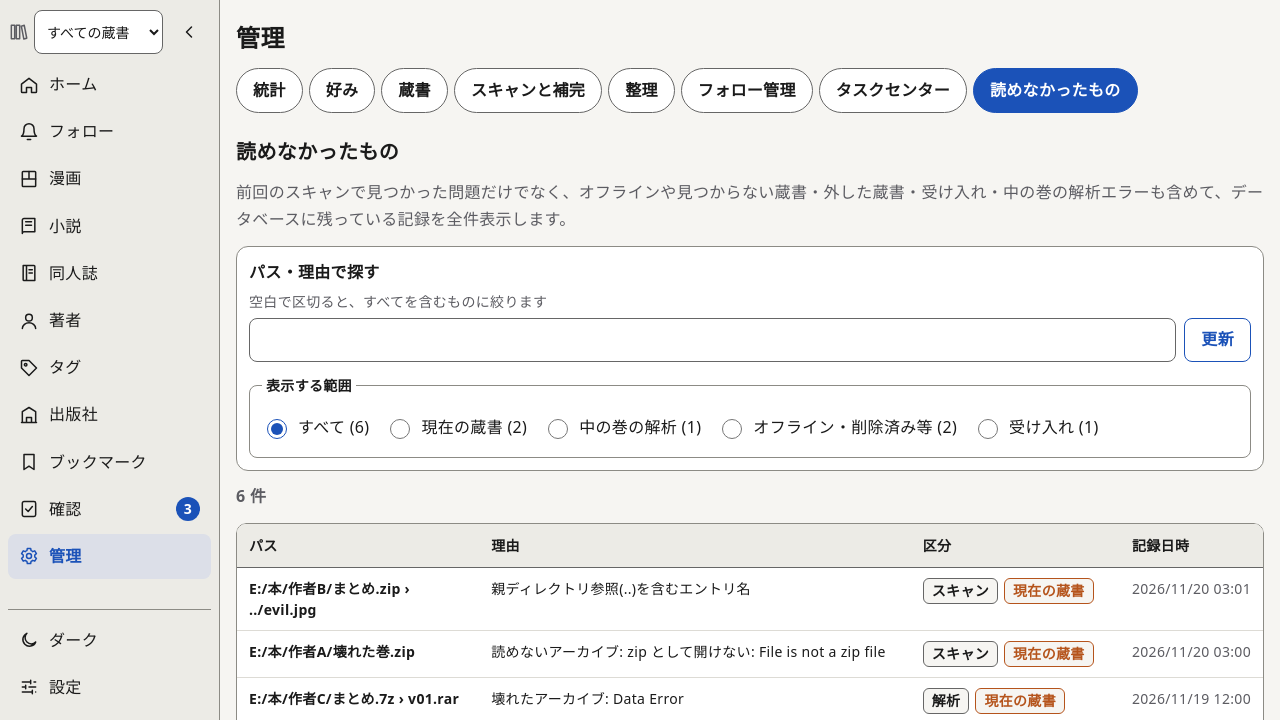
Scenario: 管理の読めなかったものタブ › キーワード検索とクリアボタンが動く
Type "外付け 7-Zip" into the search field labelled "パス・理由で探す" at coordinates (713, 340), box [249, 318, 1176, 362]
Wait 350 ms
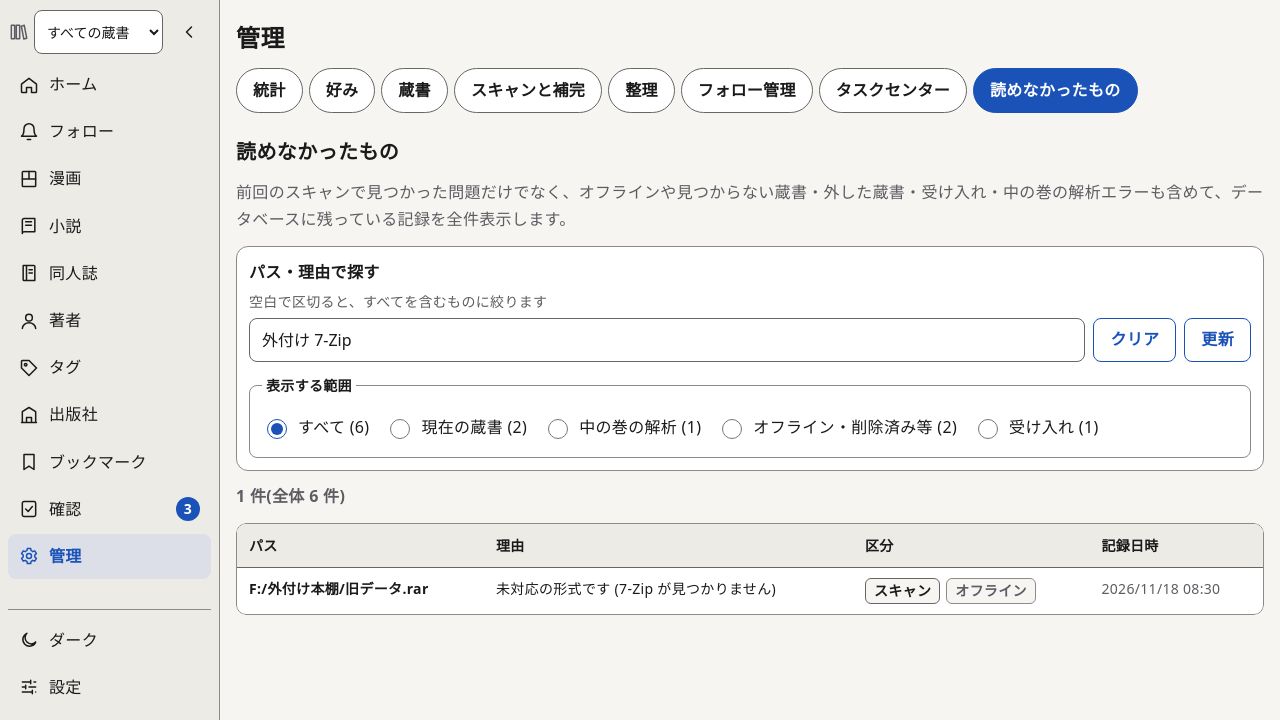
Expected: the column heading "F:/外付け本棚/旧データ.rar" is shown, [237, 568, 484, 614]
Expected: the number of rows is 2, [237, 524, 1263, 568]; [237, 568, 1263, 614]
Click the button "クリア" at coordinates (1135, 340), box [1093, 318, 1176, 362]
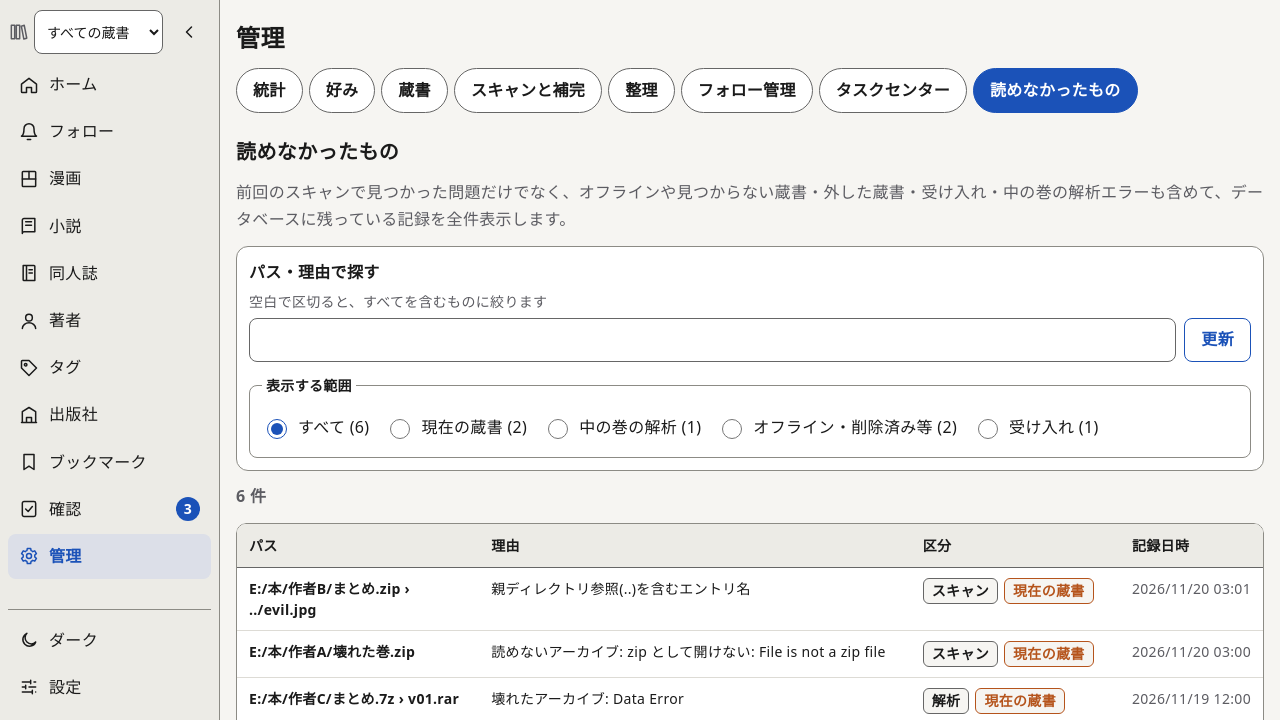
Expected: the search field labelled "パス・理由で探す" is empty, [249, 318, 1176, 362]
Expected: the number of rows is 7
